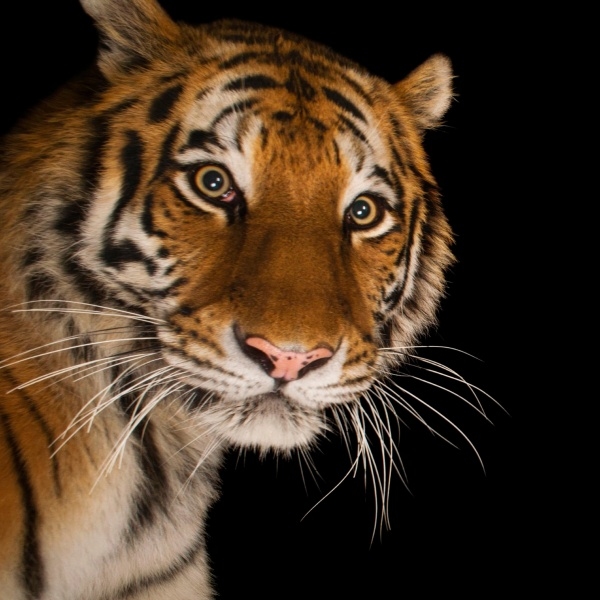Tiger: (1, 1, 464, 600)
